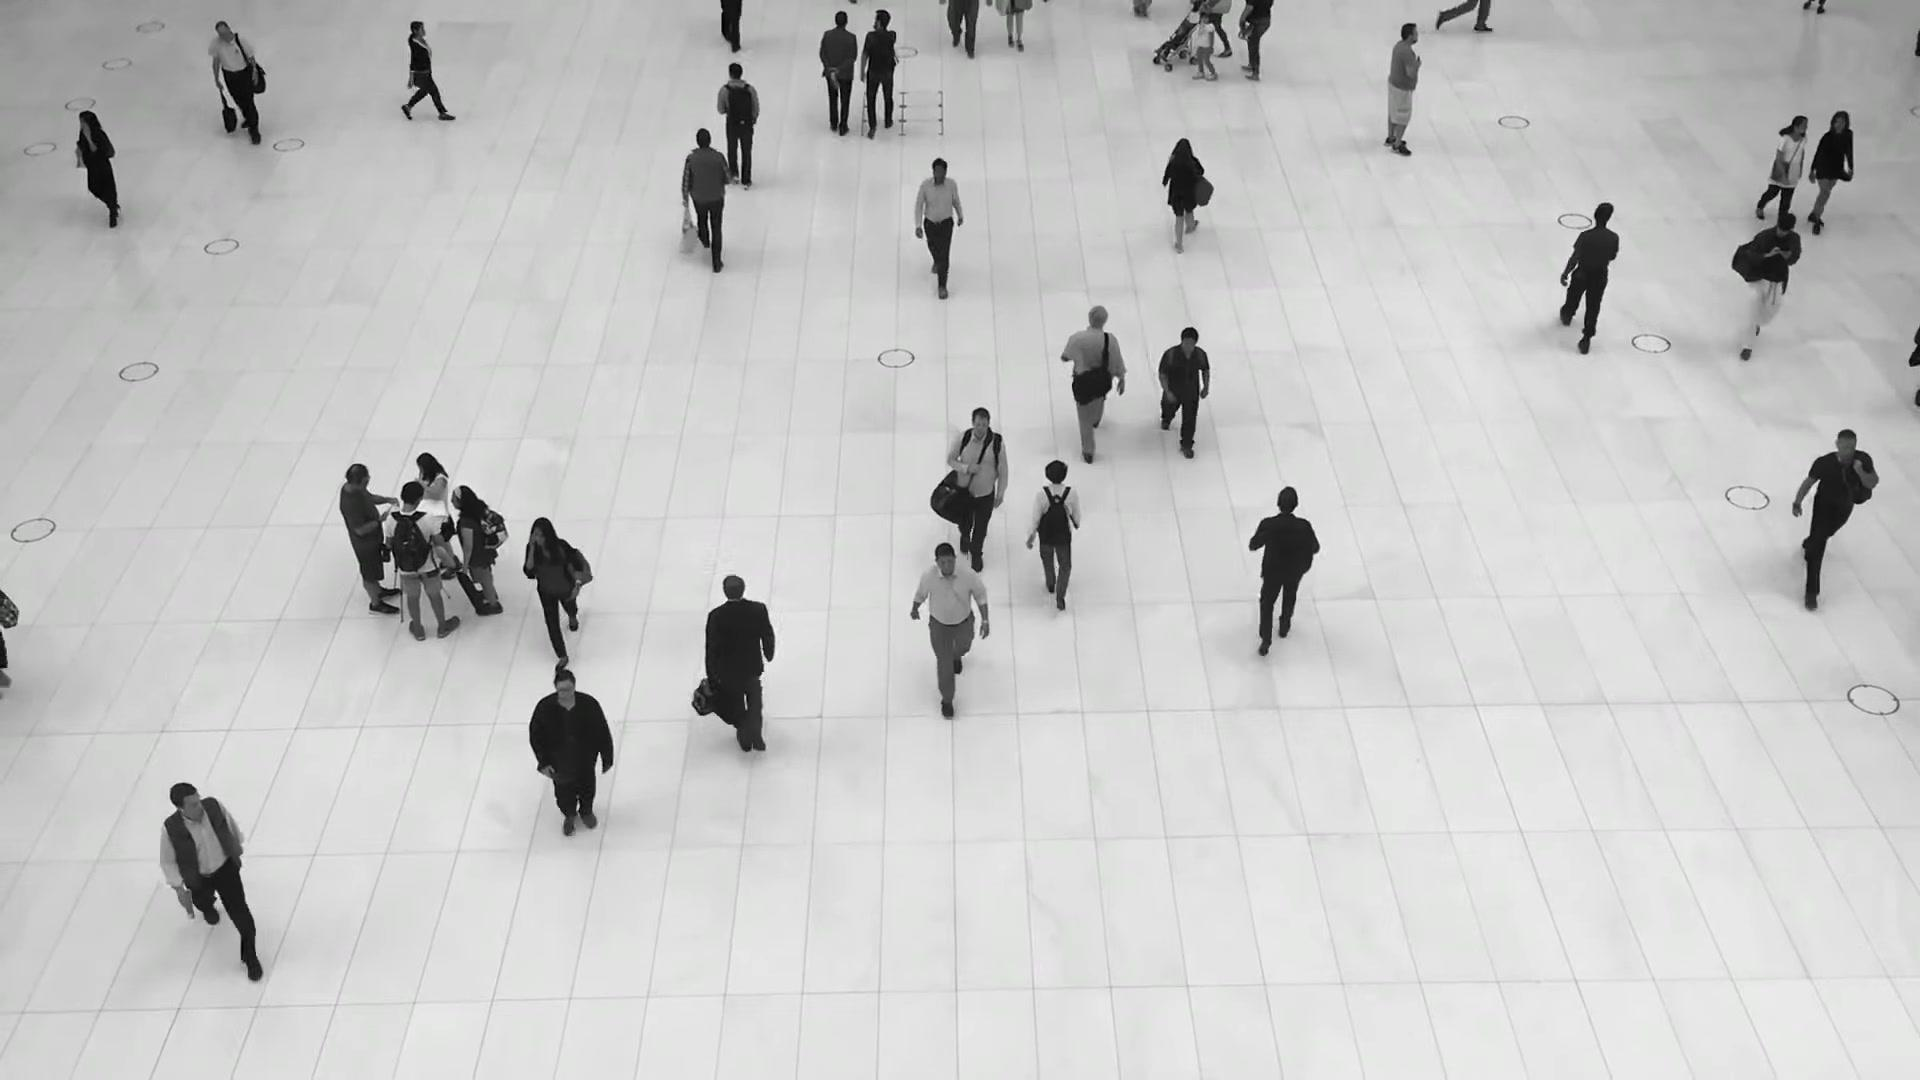person: (159, 779, 260, 976), (1791, 428, 1879, 609), (527, 669, 613, 844), (910, 541, 990, 715), (704, 574, 776, 758), (1246, 485, 1320, 650), (383, 481, 458, 641), (522, 515, 593, 668), (1731, 212, 1802, 360), (946, 406, 1008, 571), (1061, 306, 1125, 465), (1559, 202, 1619, 356), (339, 463, 400, 616), (1027, 459, 1081, 606), (680, 129, 732, 274), (914, 156, 964, 298), (1156, 325, 1210, 456), (450, 484, 503, 616), (207, 20, 262, 143), (1804, 111, 1853, 237), (1162, 138, 1213, 257), (715, 64, 760, 193), (415, 452, 459, 580), (75, 109, 121, 229), (1755, 114, 1808, 218), (1383, 22, 1421, 156), (402, 19, 451, 121), (816, 13, 854, 142), (857, 13, 895, 139), (1191, 13, 1218, 82)
